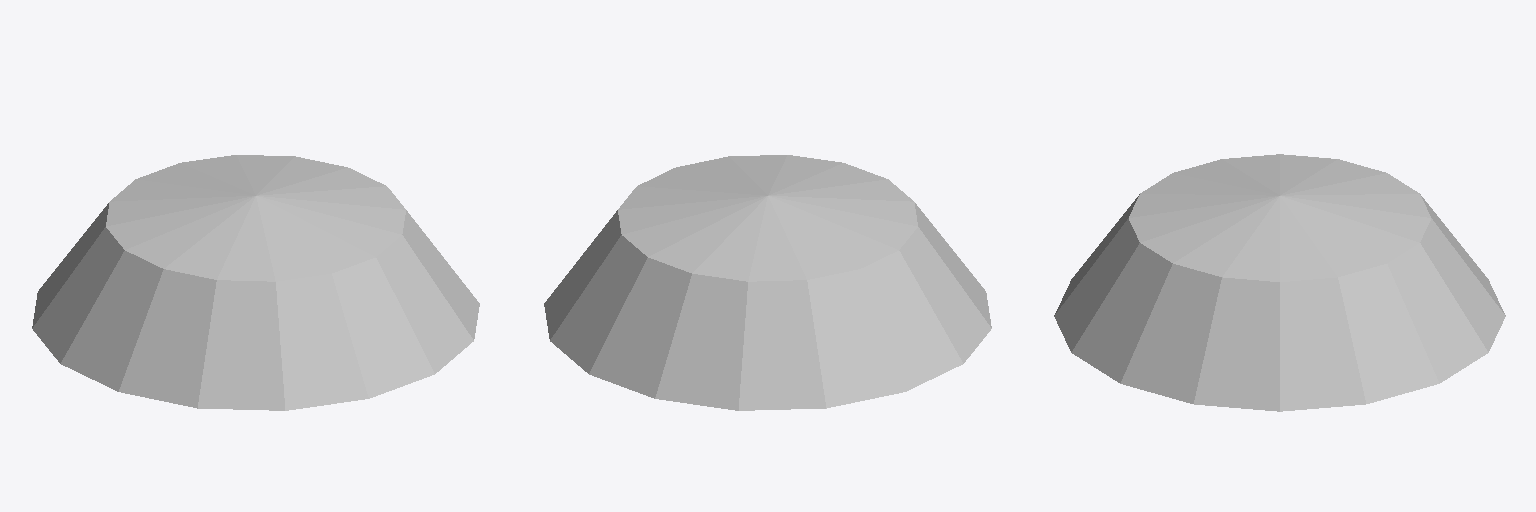
Rendered from Court B.obj.
The picture shows the model from 3 angles: view 1: azimuth 30°, elevation 25°; view 2: azimuth 150°, elevation 25°; view 3: azimuth 270°, elevation 25°; orthographic projection.
Parts seen in each view (by area): view 1: polygon52; view 2: polygon52; view 3: polygon52.
Boxes of the visible parts, x1,y1,x2,y2 form: polygon52: [32, 155, 479, 410]; polygon52: [544, 155, 991, 410]; polygon52: [1054, 154, 1505, 411].
Bounding box in the file's own units: 32.71 × 9.63 × 32.71.